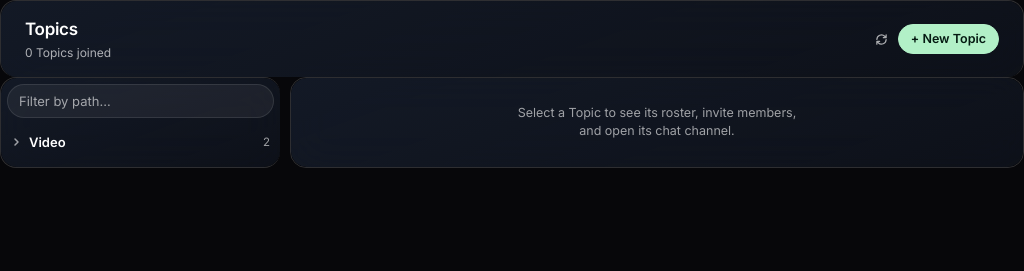
Scenario: QURATOR-144 W2 — the per-group cap › a pure-discovery group under the cap draws all its rows with no remainder line
The image size is (1024, 271).
Click the button with class "root-header": x=47, y=142 [7,124,274,161]
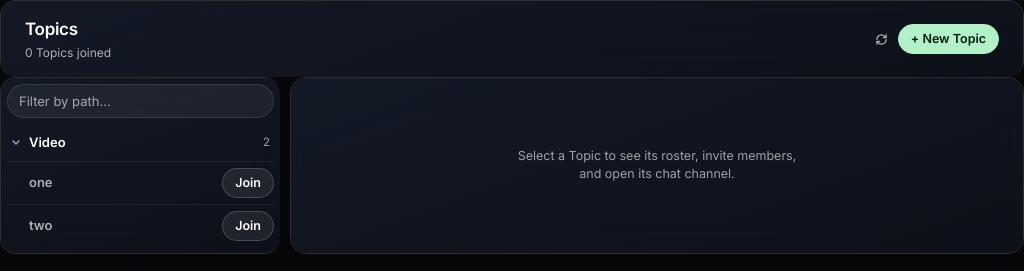
Now the text "one" is shown, box [29,174,53,190]
Now the text "two" is shown, box [29,218,52,234]
